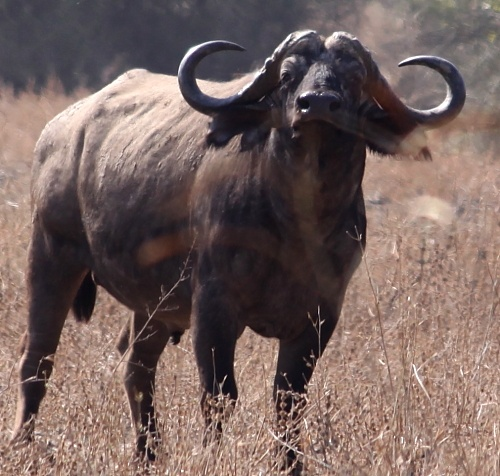buffalo: (17, 28, 467, 472)
